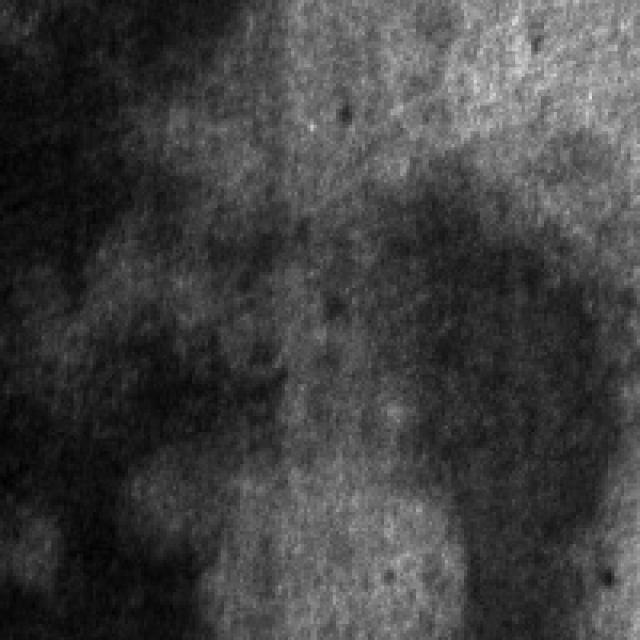patches: (342, 182, 621, 637), (0, 0, 234, 304), (0, 326, 221, 637)
